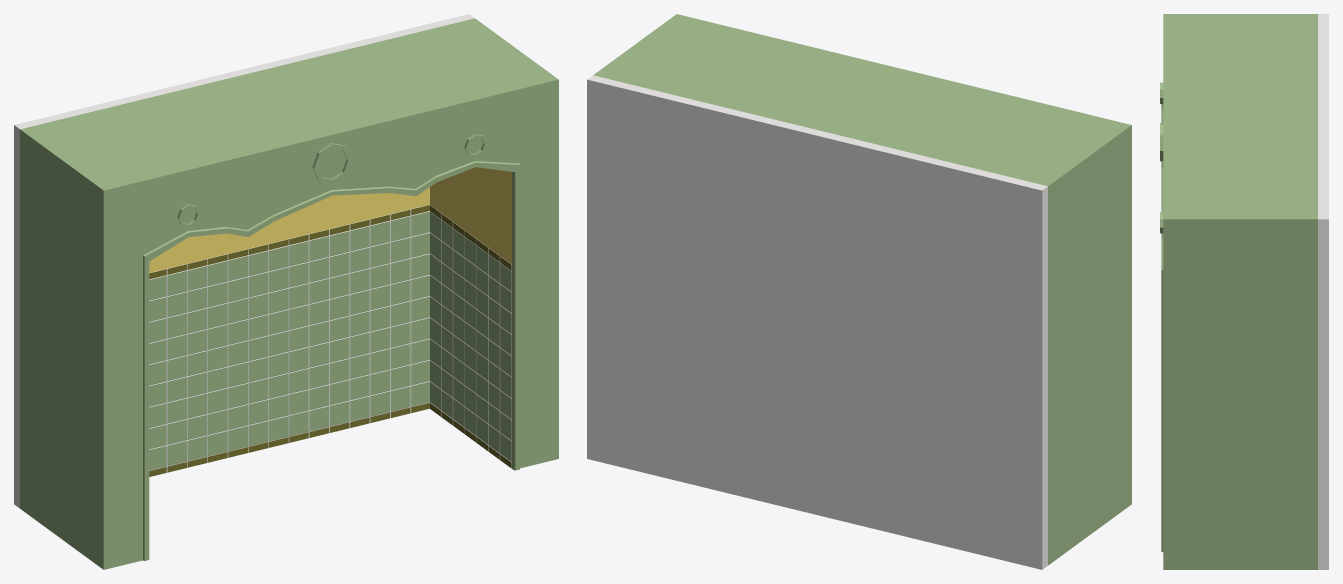
File: Wall_15.fbx
3 renders of one model, left to right at view 1: azimuth 30°, elevation 25°; view 2: azimuth 150°, elevation 25°; view 3: azimuth 270°, elevation 25°, orthographic. The views are drawn at different scales.
Visible parts, largest first — view 1: Wall_15; view 2: Wall_15; view 3: Wall_15.
Boxes of the visible parts, left/top/right/bottom form: Wall_15: left=14, top=14, right=558, bottom=569; Wall_15: left=587, top=14, right=1131, bottom=569; Wall_15: left=1160, top=14, right=1328, bottom=569.
Bounding box in the file's own units: 489 × 170 × 390.
